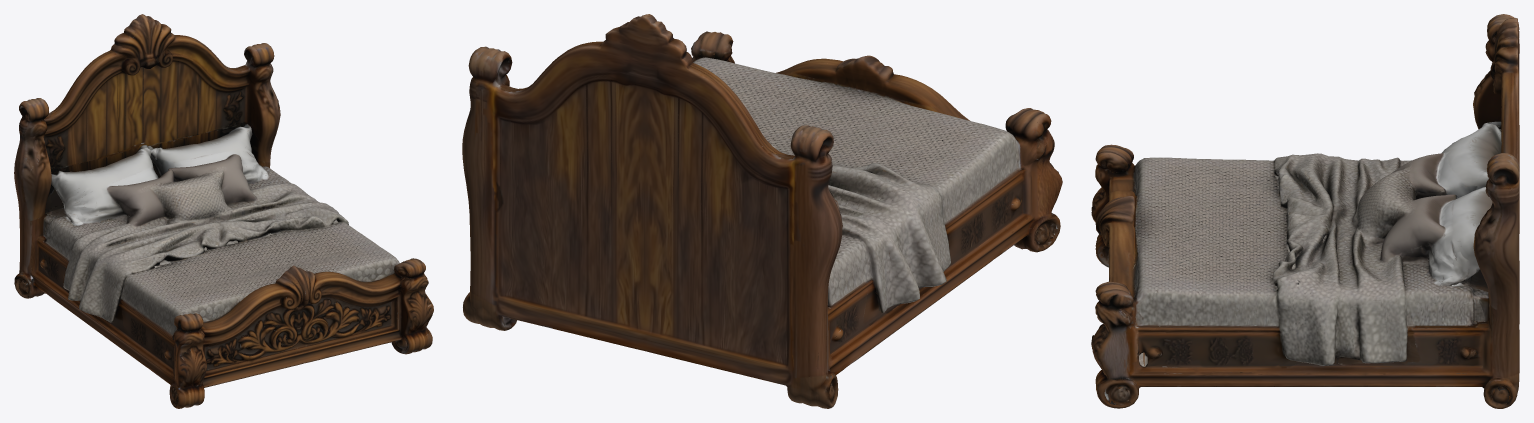
Rendered from Victorian_Bed.fbx.
3 views of the same model, side by side, from view 1: azimuth 30°, elevation 25°; view 2: azimuth 150°, elevation 25°; view 3: azimuth 270°, elevation 25° (orthographic). The views are drawn at different scales.
Visible parts, largest first — view 1: Cube; view 2: Cube; view 3: Cube.
Part boxes in pixels (left/top/right/bottom): Cube: left=14, top=14, right=433, bottom=408; Cube: left=462, top=14, right=1062, bottom=408; Cube: left=1091, top=14, right=1519, bottom=408.
Size of the model in its own units: 1.79 by 1.92 by 1.56.
1 material, 1 textured.
